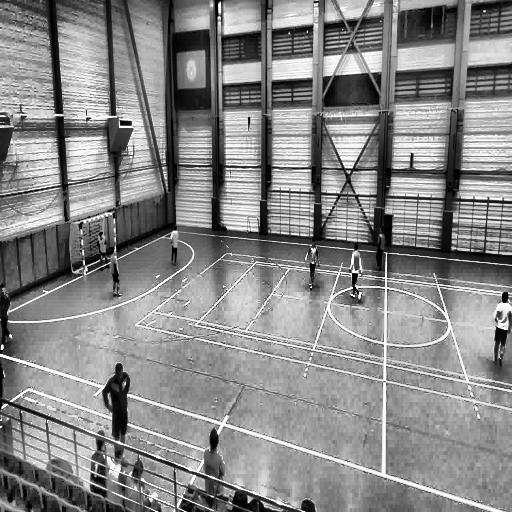ball: (85, 267, 88, 274)
player: (103, 364, 130, 458), (490, 289, 512, 368), (202, 428, 225, 500), (0, 276, 13, 346), (349, 242, 362, 300), (306, 238, 320, 288), (110, 246, 122, 297), (376, 228, 386, 272), (170, 224, 180, 266), (98, 231, 107, 271)
